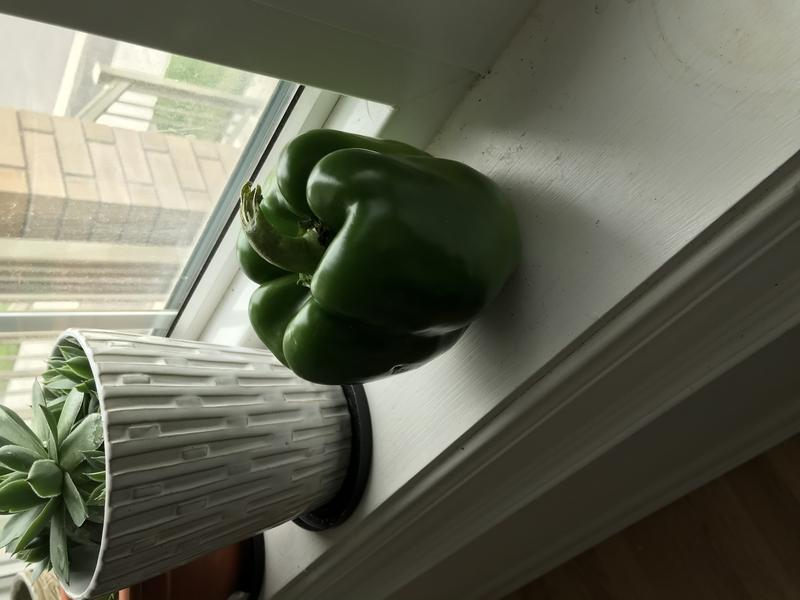green_pepper: (218, 121, 528, 387)
